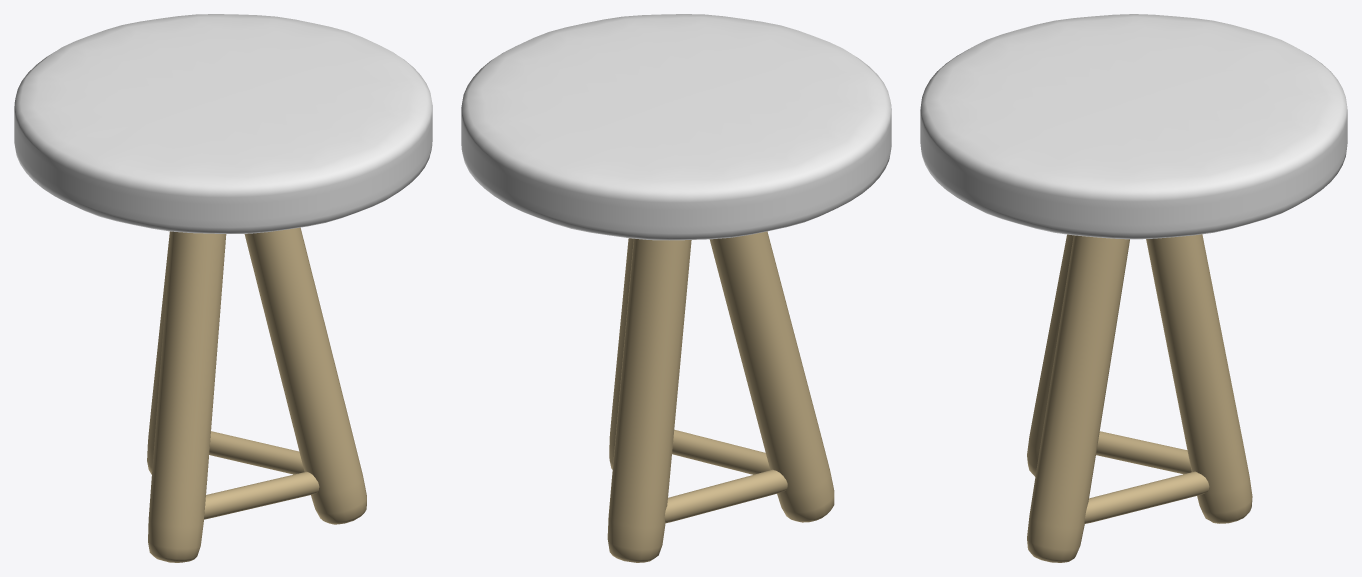
Rendered from Taburete.fbx.
The picture shows the model from 3 angles, left to right: view 1: azimuth 30°, elevation 25°; view 2: azimuth 150°, elevation 25°; view 3: azimuth 270°, elevation 25°; orthographic projection. The views are drawn at different scales.
Visible parts, largest first — view 1: Cube.014; view 2: Cube.014; view 3: Cube.014.
Part boxes in pixels (bbox=[...]): Cube.014: bbox=[14, 14, 432, 562]; Cube.014: bbox=[461, 14, 891, 562]; Cube.014: bbox=[920, 14, 1347, 562].
Bounding box in the file's own units: 22.24 × 24.46 × 22.24.
